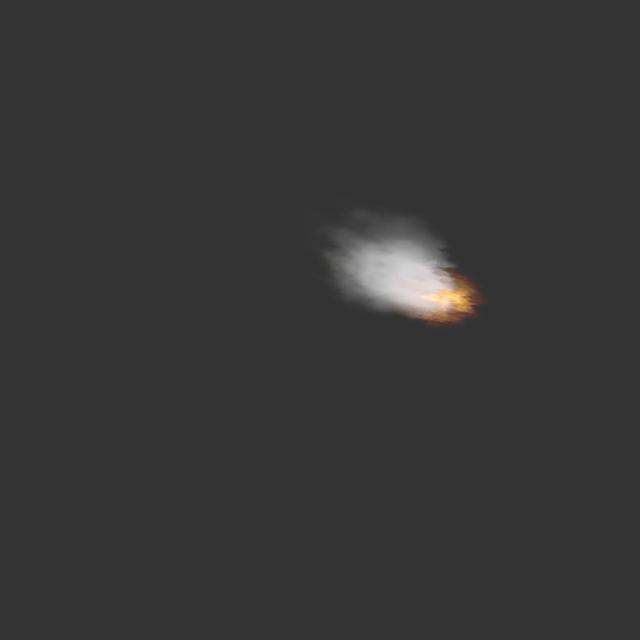fire: (420, 284, 473, 311)
smoke: (324, 224, 464, 320)
